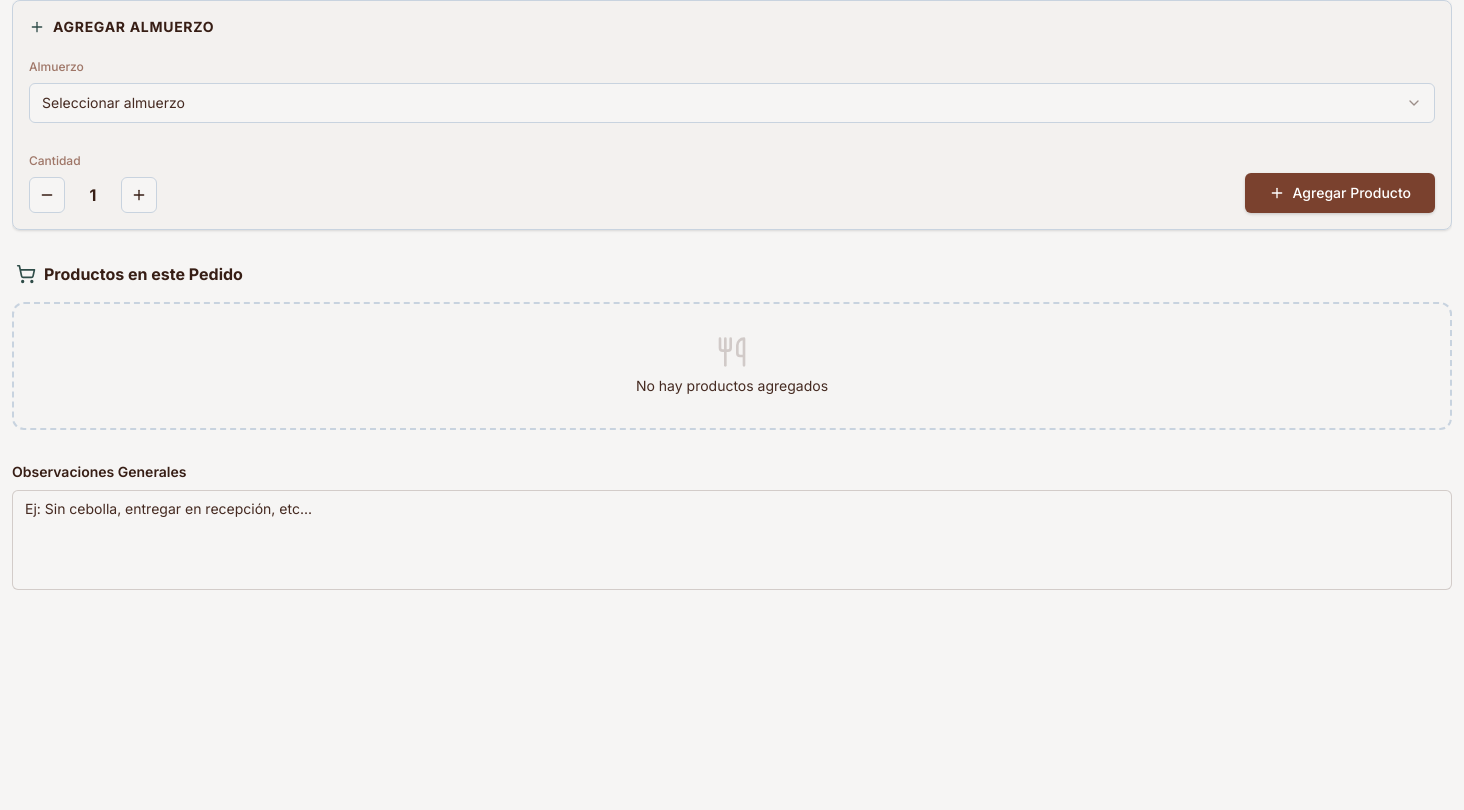
Test: OrderFormFields › maneja seleccion de almuerzo y muestra opciones de menu
# Select the Almuerzo dropdown
Click the dropdown. click: coordinates (113, 102)
box: [29, 83, 1435, 123]
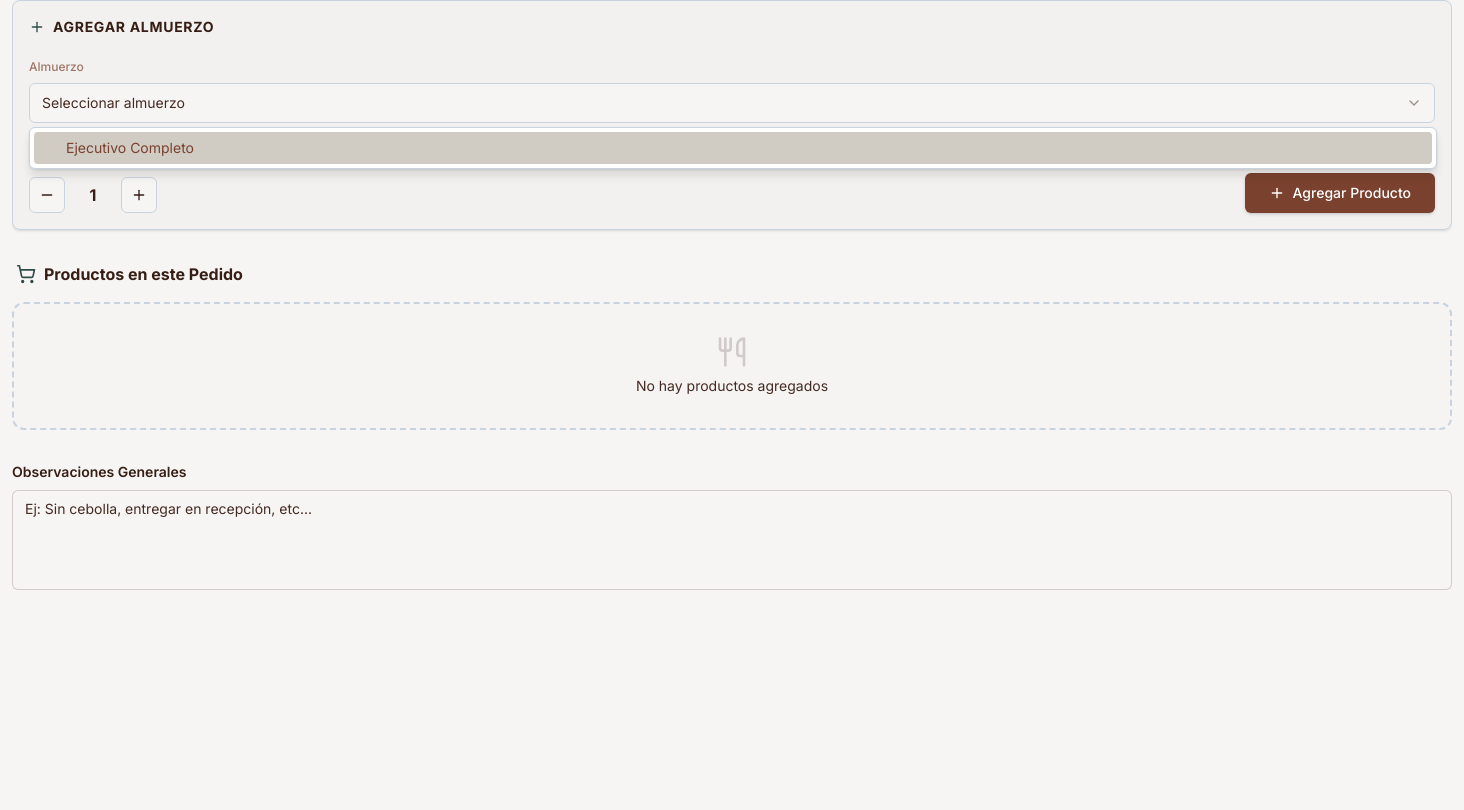
Click the option "Ejecutivo Completo". click: coordinates (130, 148)
box: [34, 132, 1432, 164]
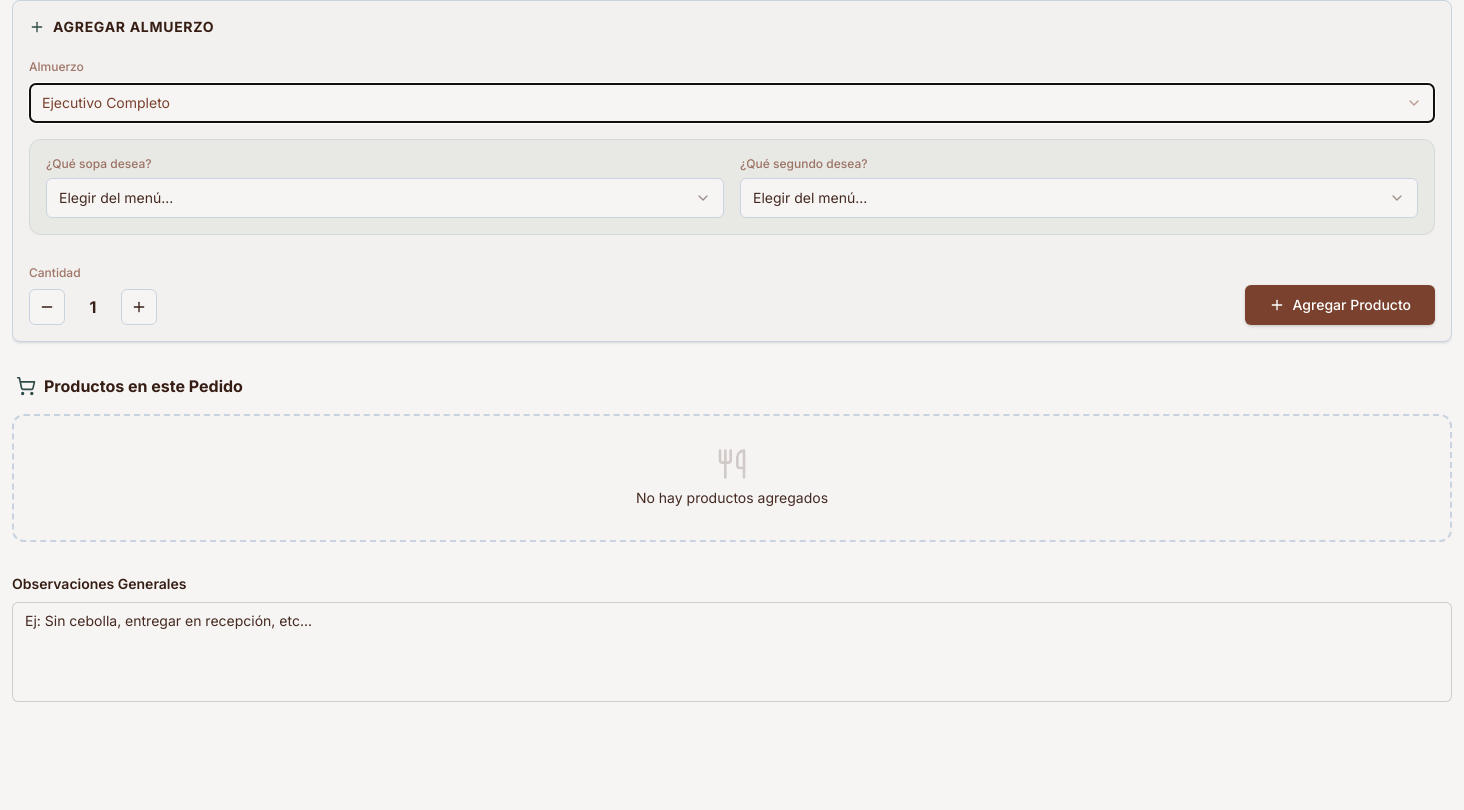
Check: the text "¿Qué sopa desea?" is shown, box [46, 156, 152, 172]
Check: the text "¿Qué segundo desea?" is shown, box [740, 156, 868, 172]
